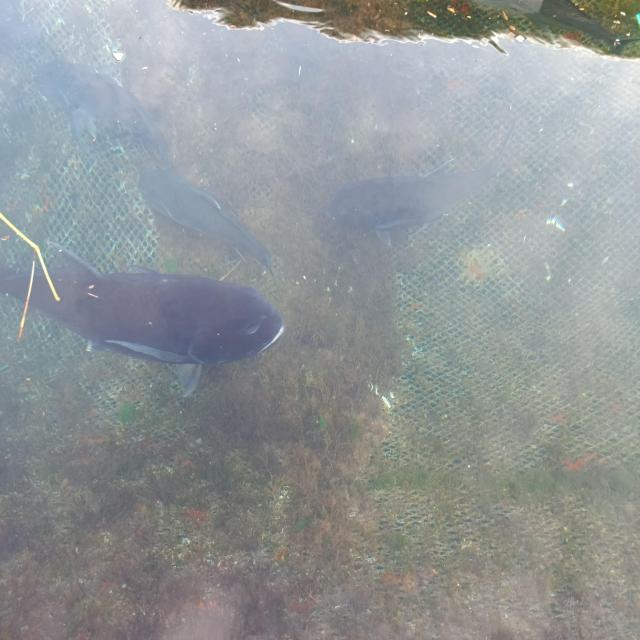ikan: (1, 237, 286, 397)
